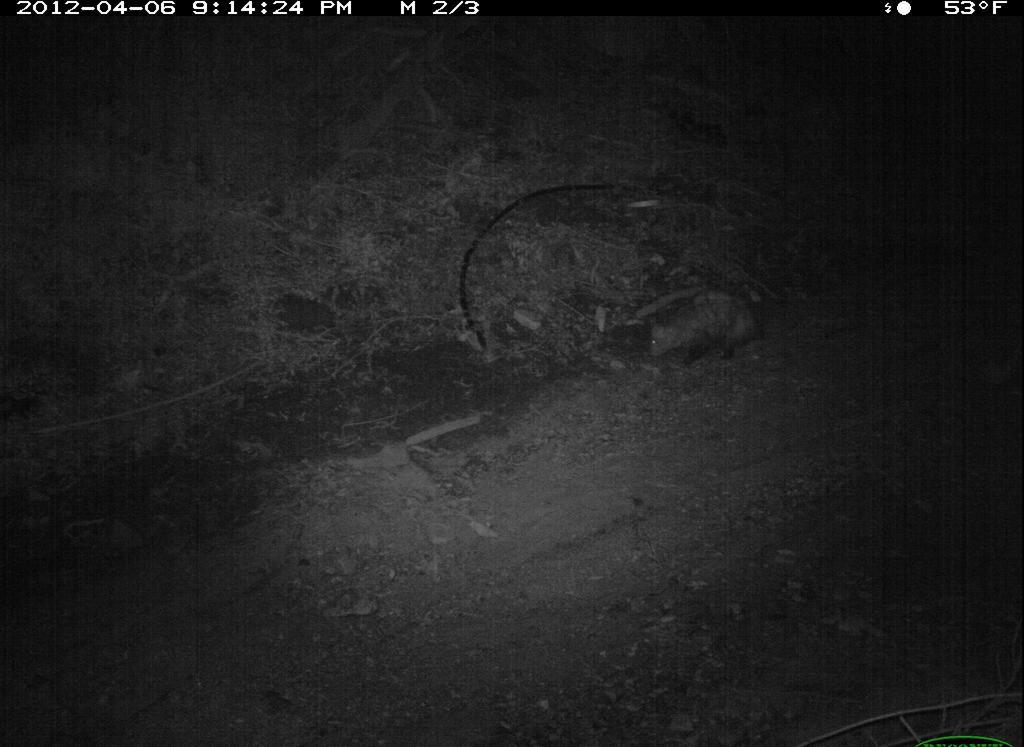opossum: (638, 274, 784, 370)
